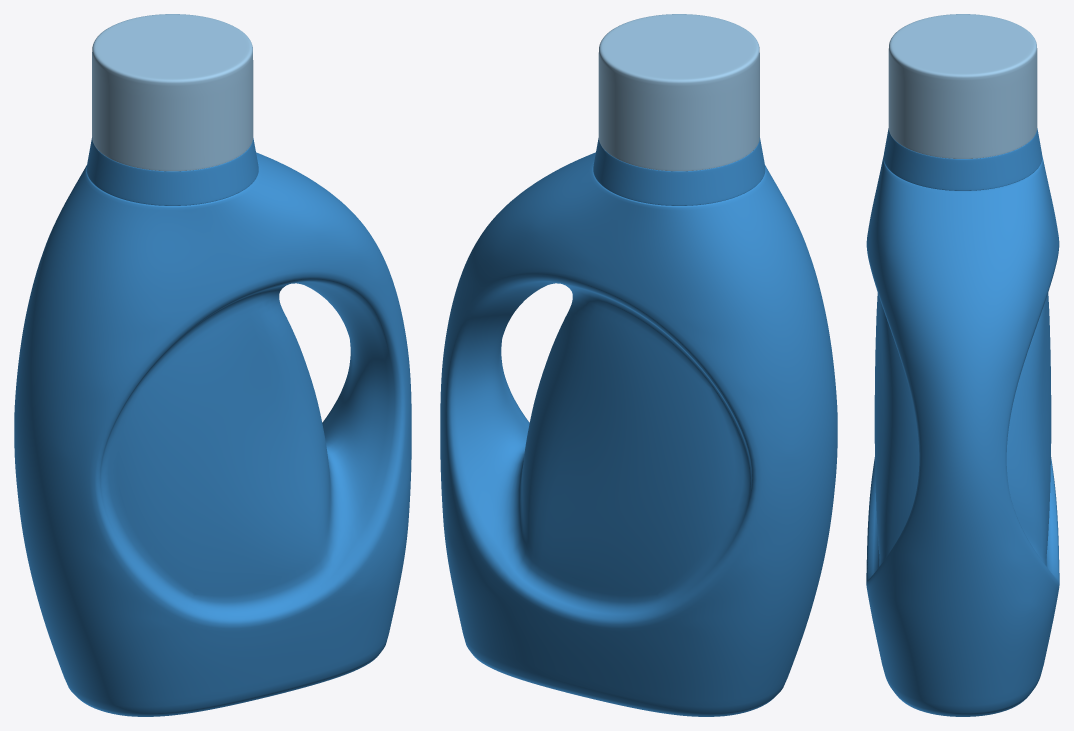
File: detersivo_2.fbx
3 views of the same model, side by side, from view 1: azimuth 30°, elevation 25°; view 2: azimuth 150°, elevation 25°; view 3: azimuth 270°, elevation 25° (orthographic). The views are drawn at different scales.
Parts seen in each view (by area): view 1: detersivo_2; view 2: detersivo_2; view 3: detersivo_2.
Part boxes in pixels (x1,y1,x2,y2): detersivo_2: (14, 14, 411, 716); detersivo_2: (440, 14, 837, 716); detersivo_2: (866, 14, 1059, 716).
Size of the model in its own units: 17.46 by 28.31 by 8.48.
